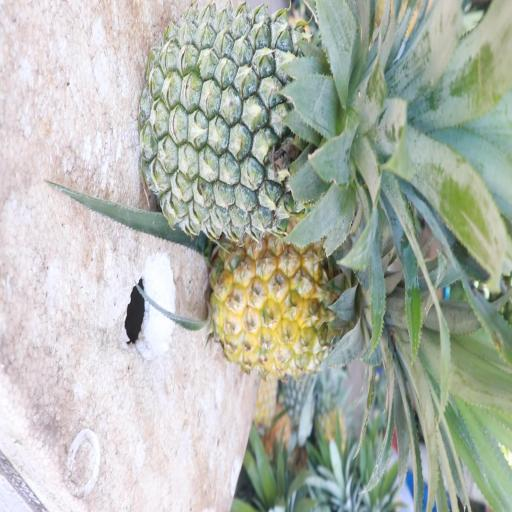Pineapple - v8 v1: (204, 232, 485, 420)
